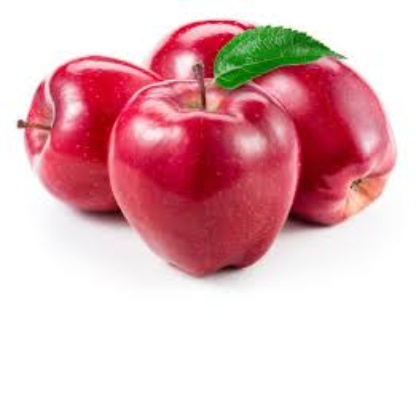tao: (115, 74, 307, 284), (265, 25, 399, 219), (38, 47, 148, 215)
